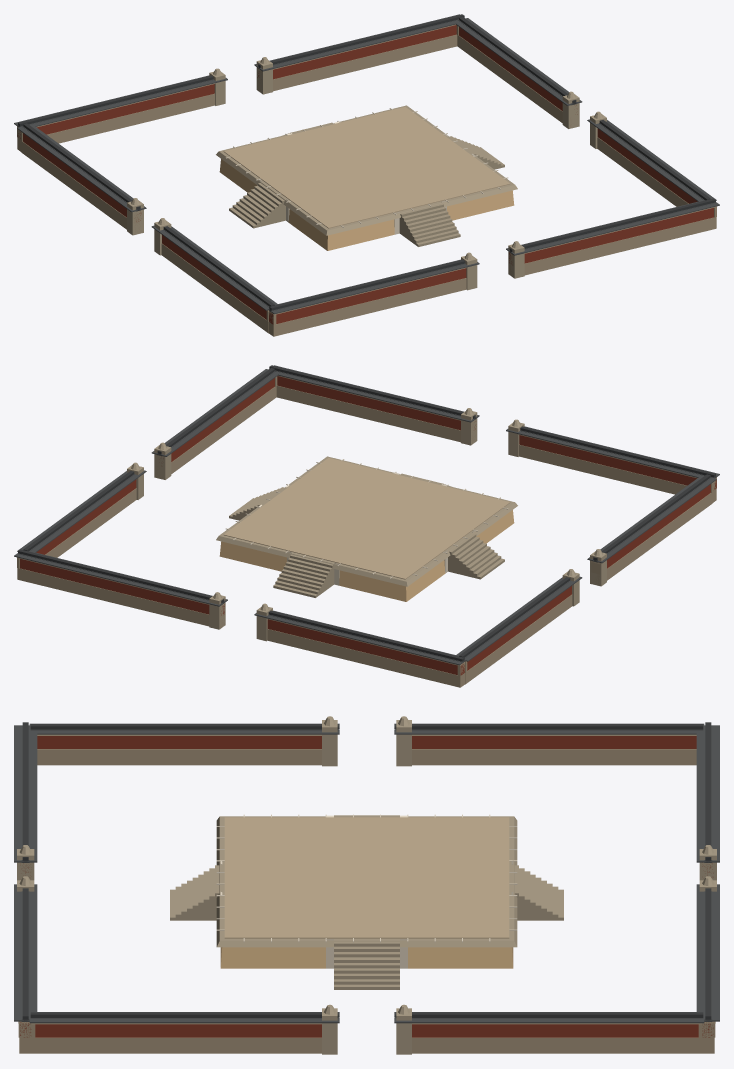
The picture shows the model from 3 angles, top to bottom: view 1: azimuth 30°, elevation 25°; view 2: azimuth 150°, elevation 25°; view 3: azimuth 270°, elevation 25°; orthographic projection. The views are drawn at different scales.
Visible parts, largest first — view 1: K09; view 2: K09; view 3: K09.
Part boxes in pixels (<box>): K09: <box>14,14,719,336</box>; K09: <box>14,365,719,687</box>; K09: <box>14,716,719,1054</box>.
Size of the model in its own units: 36.2 by 2.55 by 36.2.
